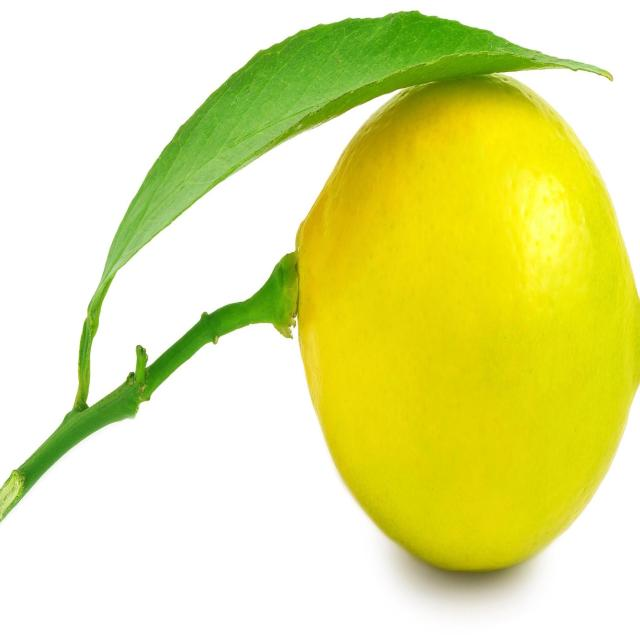lemon: (278, 51, 640, 589)
